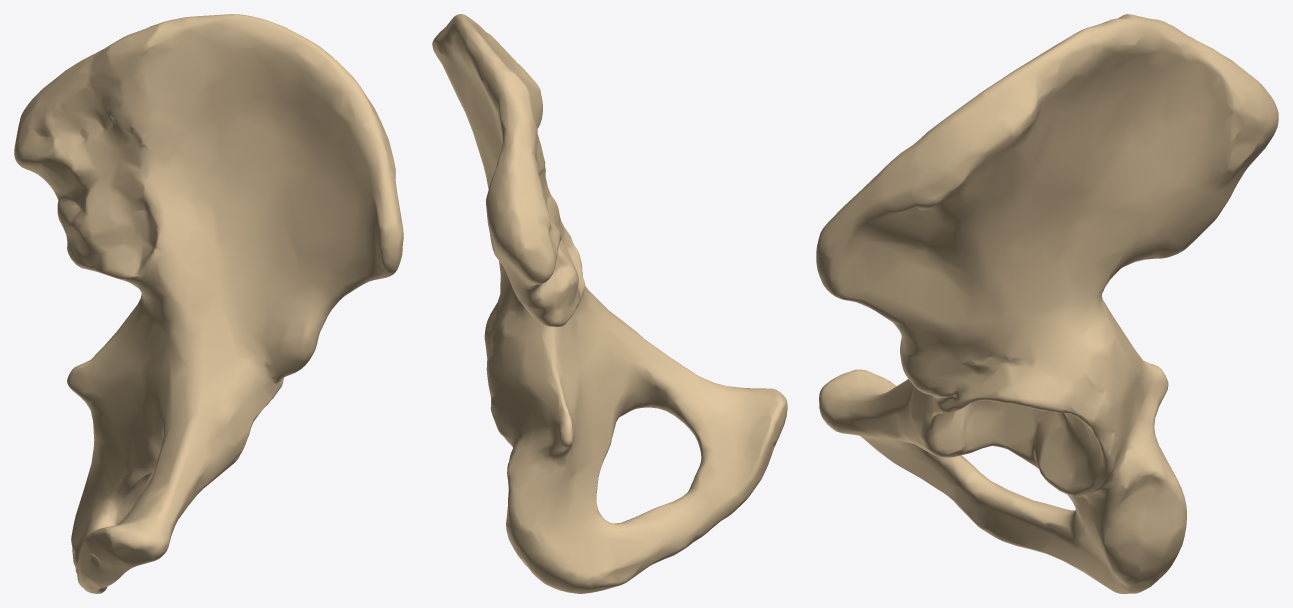
The model's file is explorar-pelvis.glb.
The picture shows the model from 3 angles, left to right: view 1: azimuth 30°, elevation 25°; view 2: azimuth 150°, elevation 25°; view 3: azimuth 270°, elevation 25°; orthographic projection. The views are drawn at different scales.
Parts seen in each view (by area): view 1: pelvis_left__ilion, pelvis_left__pubis, pelvis_left__isquion, pelvis_left__base; view 2: pelvis_left__isquion, pelvis_left__ilion, pelvis_left__pubis, pelvis_left__base; view 3: pelvis_left__ilion, pelvis_left__isquion, pelvis_left__pubis, pelvis_left__base, pelvis_left__acetabulo.
Boxes of the visible parts, left/top/right/bottom form: pelvis_left__ilion: left=14, top=14, right=403, bottom=375; pelvis_left__pubis: left=77, top=346, right=310, bottom=593; pelvis_left__isquion: left=67, top=358, right=163, bottom=593; pelvis_left__base: left=74, top=305, right=193, bottom=593; pelvis_left__isquion: left=489, top=353, right=738, bottom=593; pelvis_left__ilion: left=432, top=14, right=609, bottom=367; pelvis_left__pubis: left=609, top=311, right=787, bottom=529; pelvis_left__base: left=485, top=312, right=733, bottom=510; pelvis_left__ilion: left=816, top=14, right=1278, bottom=386; pelvis_left__isquion: left=956, top=363, right=1186, bottom=593; pelvis_left__pubis: left=819, top=369, right=976, bottom=514; pelvis_left__base: left=947, top=316, right=1152, bottom=526; pelvis_left__acetabulo: left=927, top=357, right=1086, bottom=423.
Size of the model in its own units: 0.1278 by 0.2079 by 0.1384.
